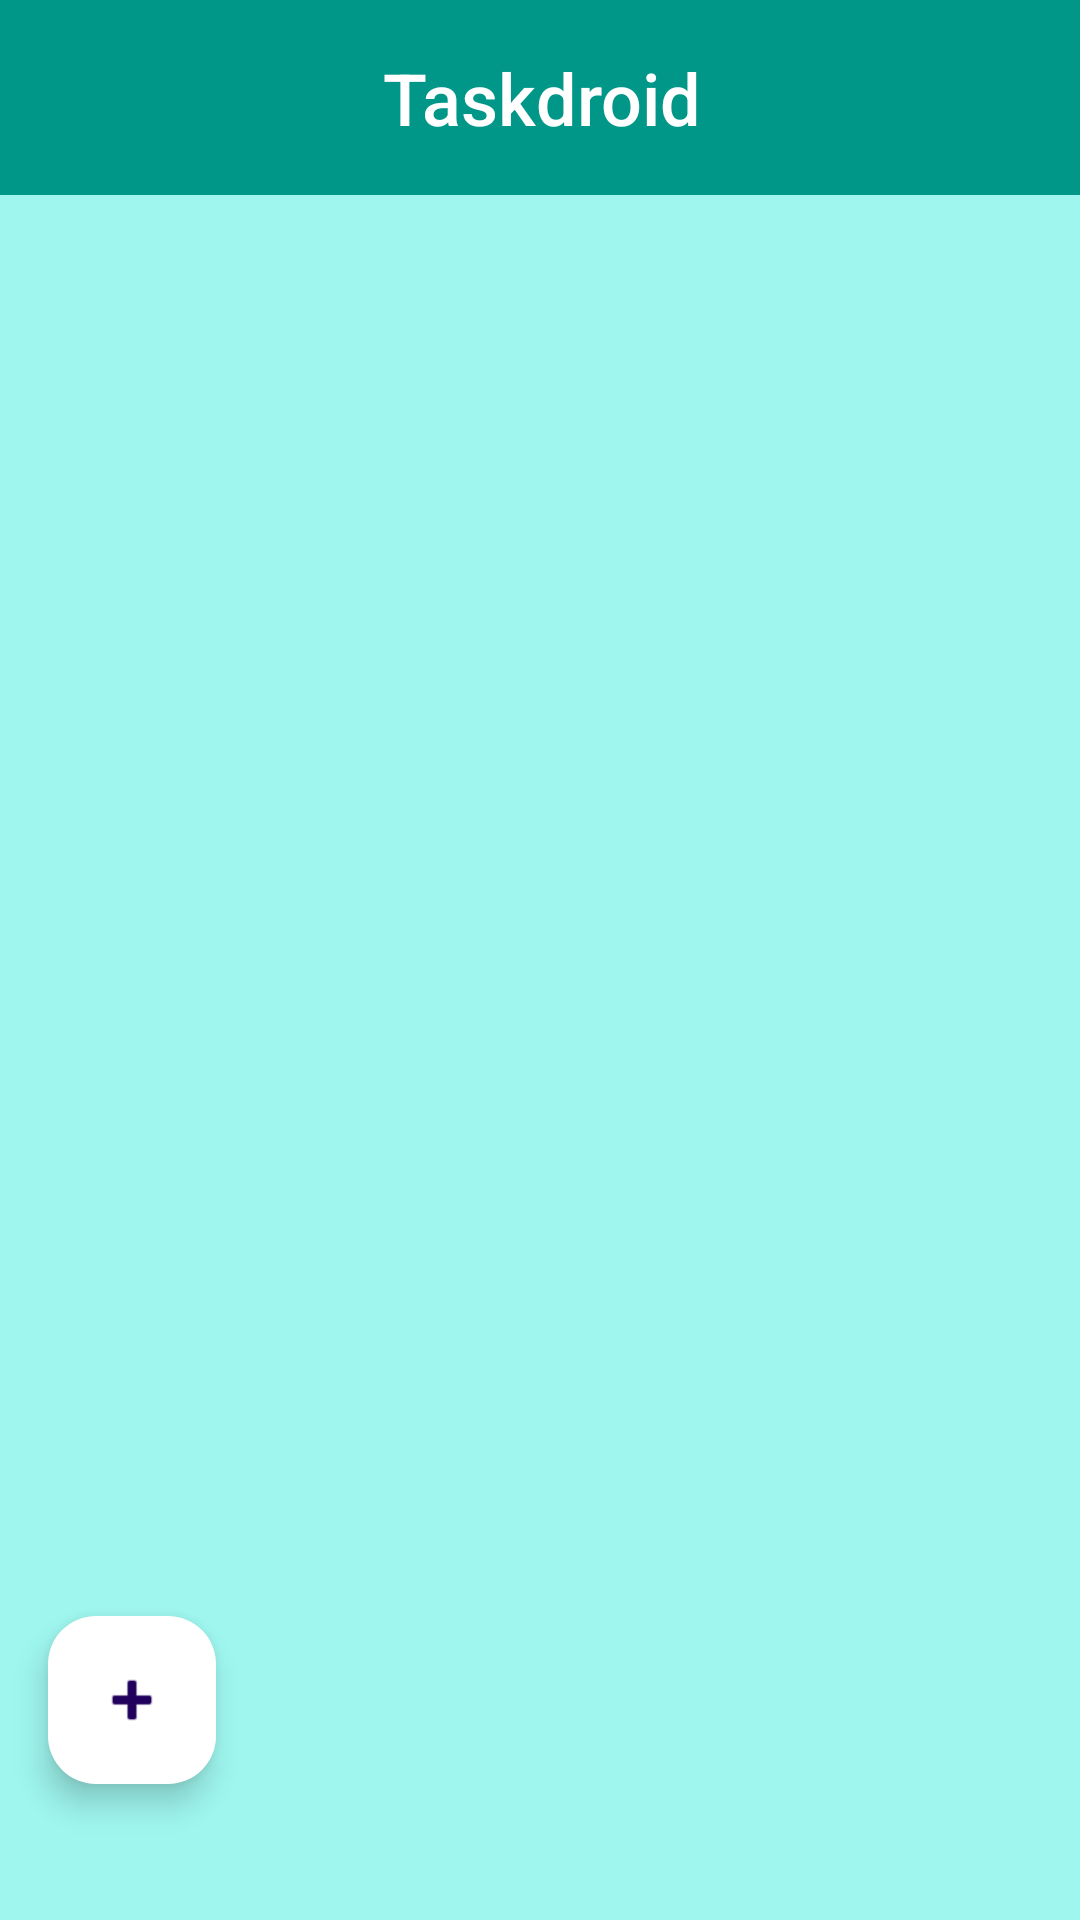

Point at icon controls on the screen. Image size 1080*1920, points as (x=x, y=y).
add: (x=132, y=1700)
